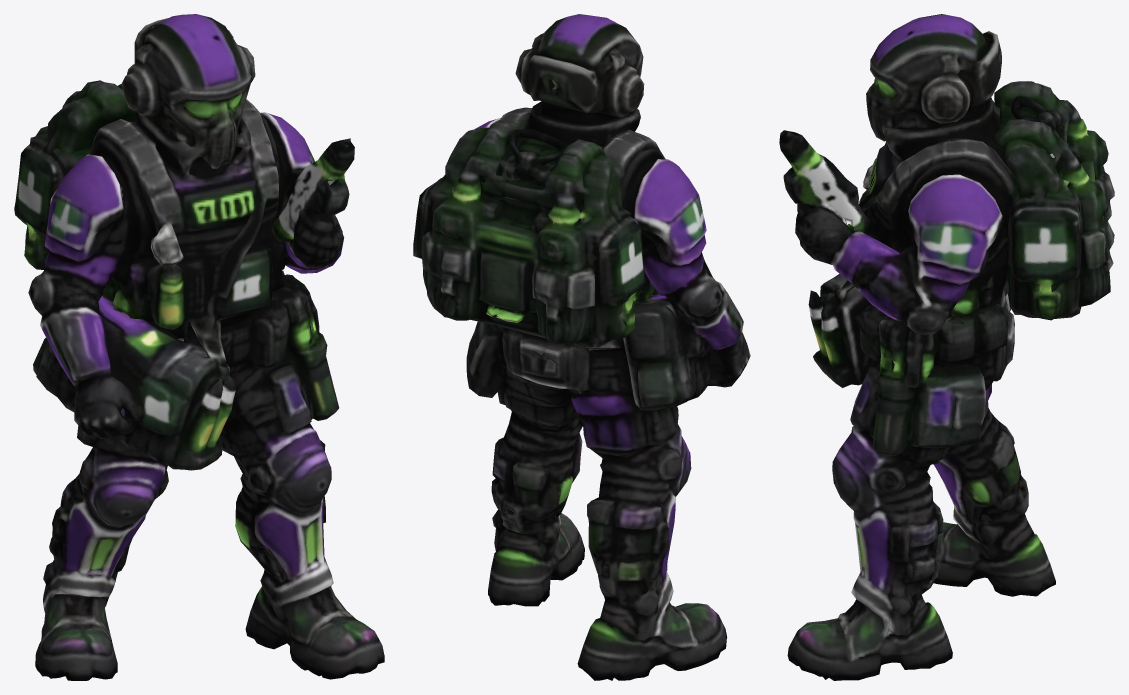
File: medic_l04.glb
3 renders of one model, left to right at view 1: azimuth 30°, elevation 25°; view 2: azimuth 150°, elevation 25°; view 3: azimuth 270°, elevation 25°, orthographic. The views are drawn at different scales.
Parts seen in each view (by area): view 1: world; view 2: world; view 3: world.
Part boxes in pixels (x1,y1,x2,y2): world: [14, 14, 384, 680]; world: [413, 14, 750, 680]; world: [779, 14, 1114, 680].
Size of the model in its own units: 0.4856 by 1 by 0.5065.
1 material, 1 textured.
